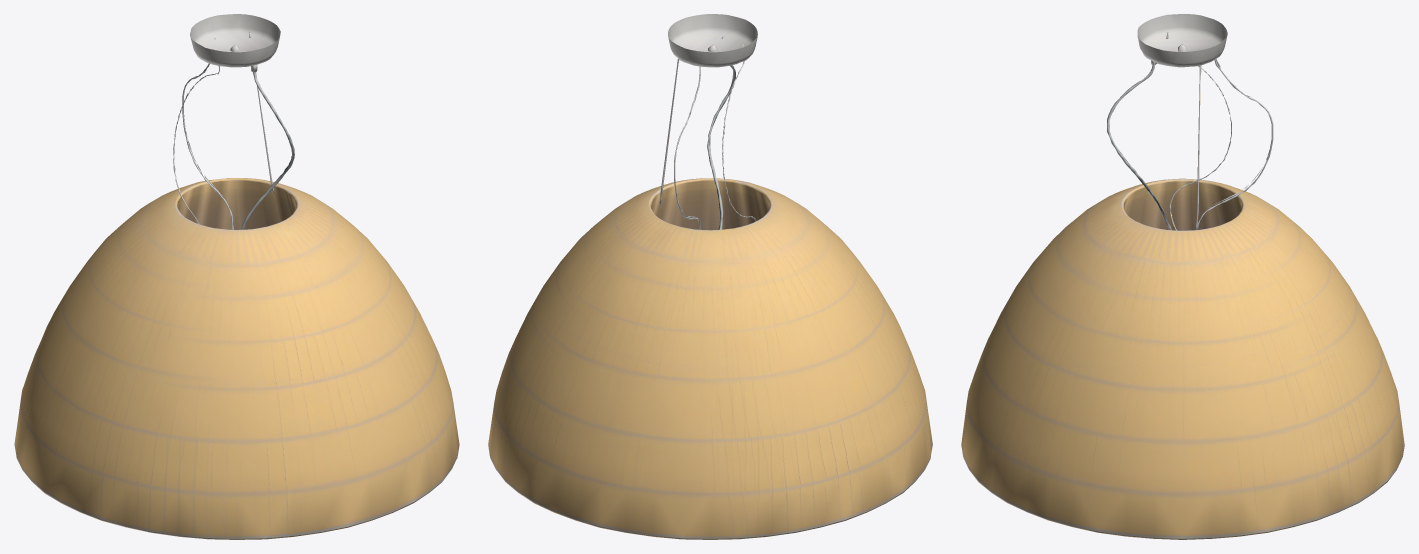
The model's file is beehive-ribbed-pendant-lamp.glb.
3 views of the same model, side by side, from view 1: azimuth 30°, elevation 25°; view 2: azimuth 150°, elevation 25°; view 3: azimuth 270°, elevation 25° (orthographic).
Visible parts, largest first — view 1: Beehive Ribbed Pendant Lamp; view 2: Beehive Ribbed Pendant Lamp; view 3: Beehive Ribbed Pendant Lamp.
Boxes of the visible parts, left/top/right/bottom form: Beehive Ribbed Pendant Lamp: left=14, top=14, right=459, bottom=539; Beehive Ribbed Pendant Lamp: left=488, top=14, right=932, bottom=539; Beehive Ribbed Pendant Lamp: left=961, top=14, right=1404, bottom=539.
Size of the model in its own units: 0.9629 by 0.998 by 0.9629.
1 material, 1 textured.
